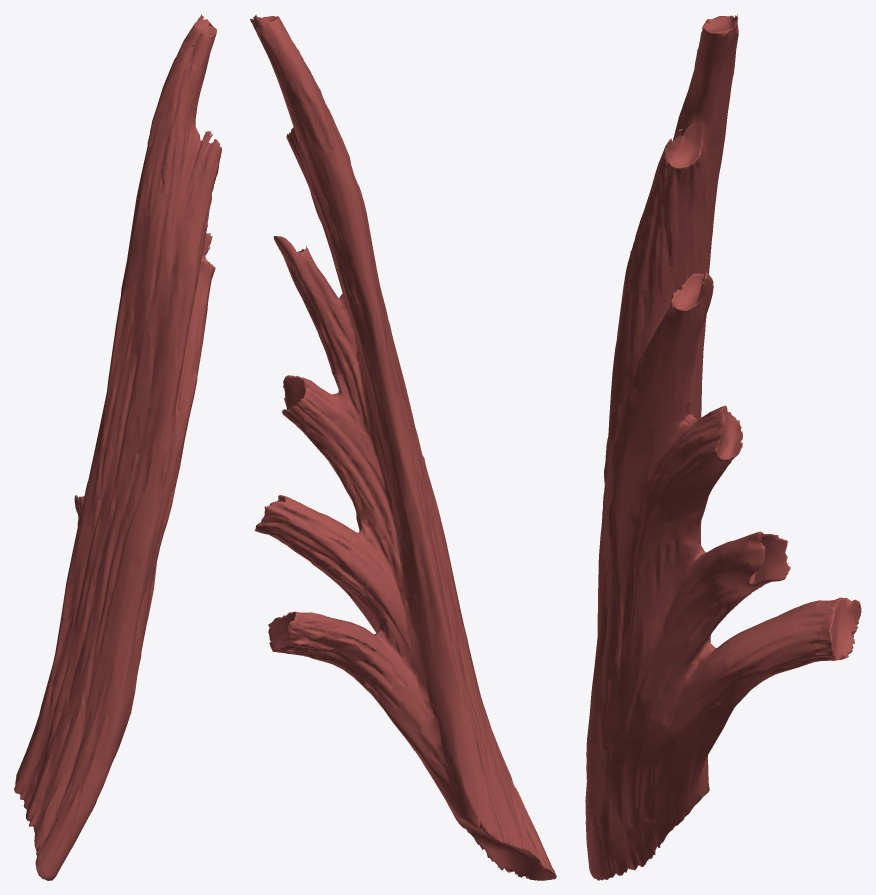
Rendered from FMA13390.glb.
3 views of the same model, side by side, from view 1: azimuth 30°, elevation 25°; view 2: azimuth 150°, elevation 25°; view 3: azimuth 270°, elevation 25° (orthographic). The views are drawn at different scales.
Parts seen in each view (by area): view 1: FMA13390; view 2: FMA13390; view 3: FMA13390.
Boxes of the visible parts, bbox=[...] form: FMA13390: bbox=[14, 14, 221, 880]; FMA13390: bbox=[250, 14, 556, 880]; FMA13390: bbox=[585, 14, 861, 880].
Bounding box in the file's own units: 0.0292 × 0.0962 × 0.0242.
